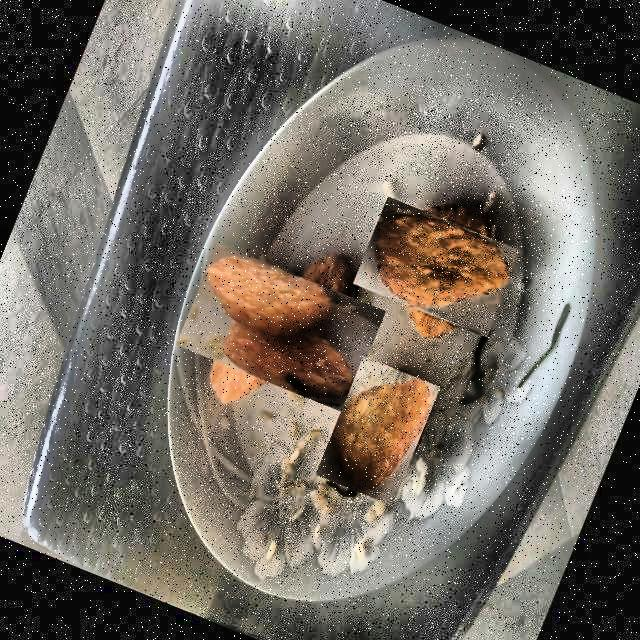Food: (185, 233, 376, 423), (358, 188, 514, 344), (314, 356, 439, 506)
